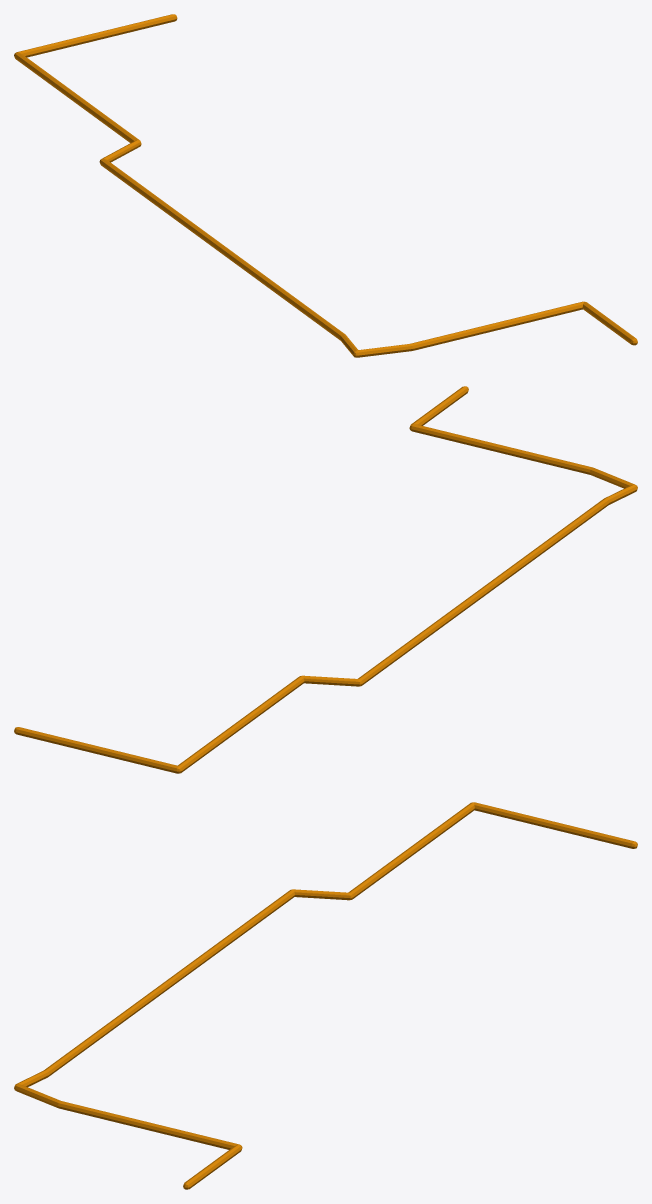
3 views of the same model, one above another, from view 1: azimuth 30°, elevation 25°; view 2: azimuth 150°, elevation 25°; view 3: azimuth 330°, elevation 25° (orthographic). The views are drawn at different scales.
Bounding box in the file's own units: 658 × 20 × 2257.
